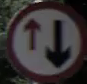Two way: (8, 6, 80, 72)
